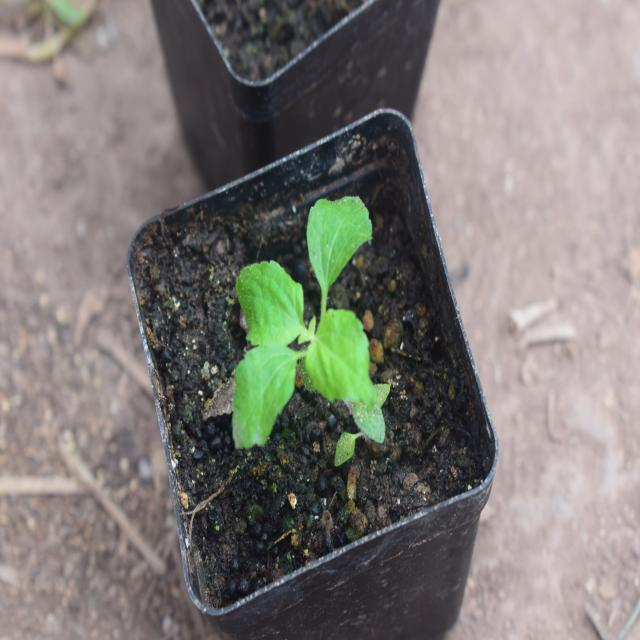billygoat_weed: (201, 174, 390, 463)
